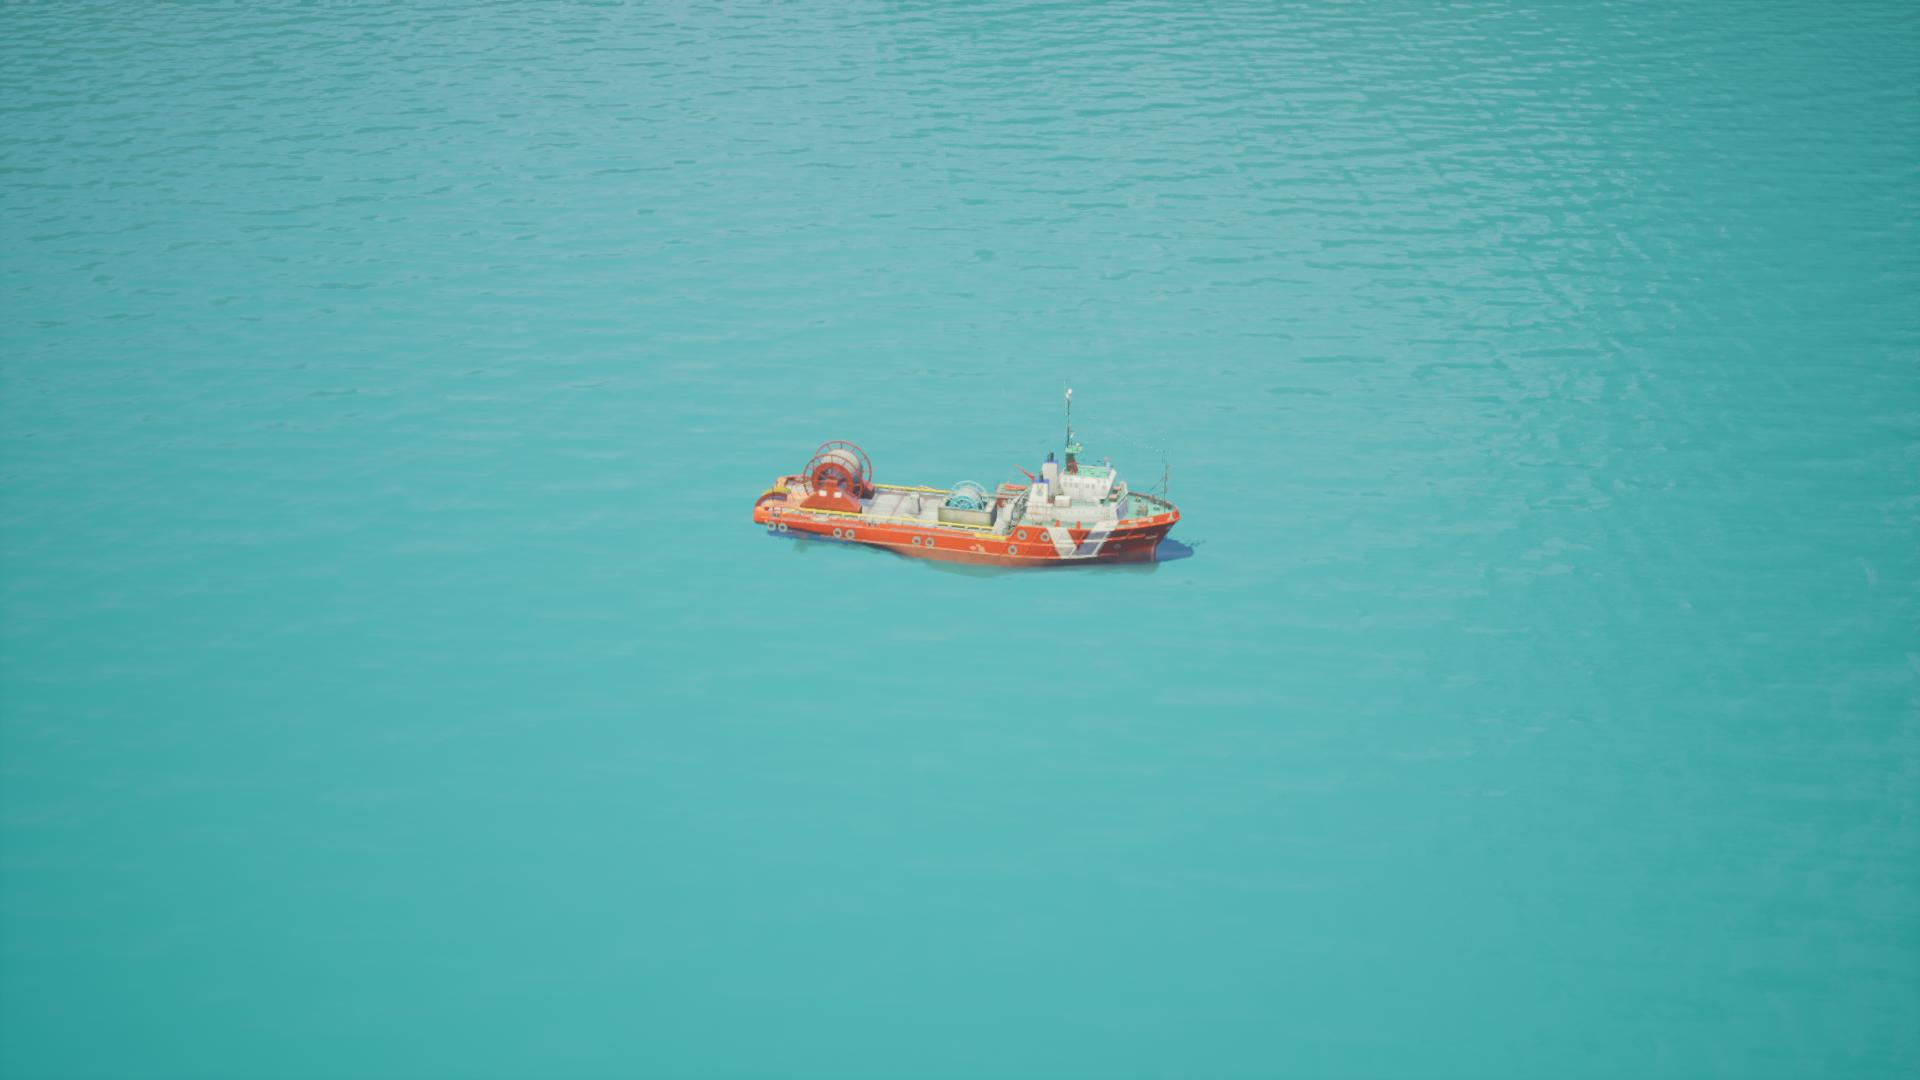Tug Boat: (554, 282, 1225, 662)
